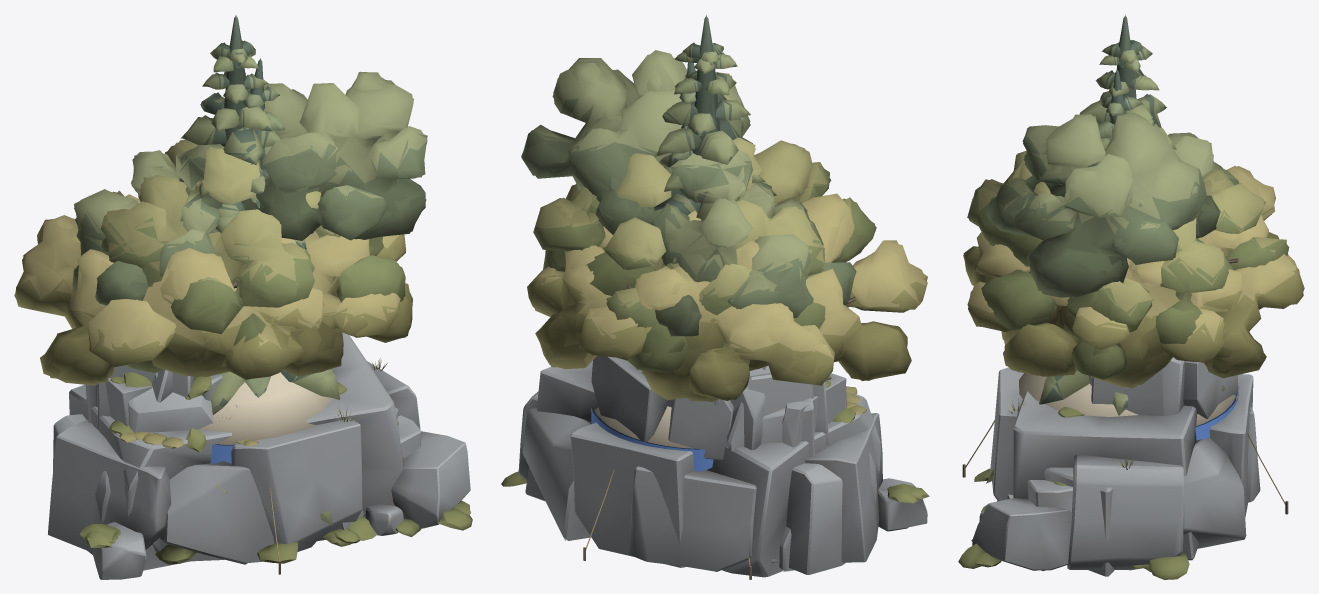
The model's file is props-79b6418a.glb.
3 renders of one model, left to right at view 1: azimuth 30°, elevation 25°; view 2: azimuth 150°, elevation 25°; view 3: azimuth 270°, elevation 25°, orthographic. The views are drawn at different scales.
Parts seen in each view (by area): view 1: cliff-1-stone, tree-oak-2-canopy, tree-oak-3-canopy, tree-oak-1-canopy, tree-oak-3-far-canopy, tree-oak-2-far-canopy, tree-oak-1-far-canopy, cliff-2-stone, tree-pine-1-crown, tent-canvas, tree-pine-1-far-crown, tree-pine-2-crown; view 2: cliff-1-stone, tree-oak-2-canopy, tree-oak-3-canopy, tree-oak-2-far-canopy, tree-oak-1-canopy, tree-oak-3-far-canopy, tree-oak-1-far-canopy, tree-pine-1-crown, cliff-2-stone, tree-pine-1-far-crown, tent-canvas, tent-team; view 3: cliff-1-stone, tree-oak-3-canopy, tree-oak-2-canopy, tree-oak-1-canopy, tree-oak-3-far-canopy, tree-oak-2-far-canopy, tree-oak-1-far-canopy, tree-pine-1-crown, tent-canvas, tree-pine-1-far-crown, cliff-2-stone, tree-pine-2-crown (+1 smaller).
Boxes of the visible parts, bbox=[...] form: cliff-1-stone: bbox=[48, 332, 472, 579]; tree-oak-2-canopy: bbox=[14, 195, 412, 385]; tree-oak-3-canopy: bbox=[74, 72, 427, 305]; tree-oak-1-canopy: bbox=[73, 140, 405, 371]; tree-oak-3-far-canopy: bbox=[74, 71, 427, 305]; tree-oak-2-far-canopy: bbox=[15, 194, 412, 382]; tree-oak-1-far-canopy: bbox=[72, 142, 405, 372]; cliff-2-stone: bbox=[85, 370, 421, 561]; tree-pine-1-crown: bbox=[179, 16, 340, 525]; tent-canvas: bbox=[199, 372, 333, 444]; tree-pine-1-far-crown: bbox=[179, 15, 339, 519]; tree-pine-2-crown: bbox=[236, 59, 284, 397]; cliff-1-stone: bbox=[501, 355, 929, 577]; tree-oak-2-canopy: bbox=[527, 193, 927, 401]; tree-oak-3-canopy: bbox=[521, 50, 855, 336]; tree-oak-2-far-canopy: bbox=[531, 194, 927, 401]; tree-oak-1-canopy: bbox=[534, 137, 874, 371]; tree-oak-3-far-canopy: bbox=[521, 54, 856, 334]; tree-oak-1-far-canopy: bbox=[533, 140, 876, 373]; tree-pine-1-crown: bbox=[621, 16, 774, 413]; cliff-2-stone: bbox=[714, 373, 846, 571]; tree-pine-1-far-crown: bbox=[620, 15, 776, 413]; tent-canvas: bbox=[594, 406, 693, 448]; tent-team: bbox=[591, 408, 713, 471]; cliff-1-stone: bbox=[958, 357, 1260, 579]; tree-oak-3-canopy: bbox=[986, 112, 1239, 297]; tree-oak-2-canopy: bbox=[963, 166, 1304, 387]; tree-oak-1-canopy: bbox=[968, 151, 1289, 379]; tree-oak-3-far-canopy: bbox=[987, 114, 1232, 297]; tree-oak-2-far-canopy: bbox=[963, 165, 1303, 388]; tree-oak-1-far-canopy: bbox=[967, 151, 1286, 378]; tree-pine-1-crown: bbox=[986, 16, 1224, 483]; tent-canvas: bbox=[1019, 373, 1235, 425]; tree-pine-1-far-crown: bbox=[989, 14, 1225, 479]; cliff-2-stone: bbox=[981, 480, 1150, 571]; tree-pine-2-crown: bbox=[1098, 70, 1141, 138].
Size of the model in its own units: 5.2 by 6.68 by 4.25.
